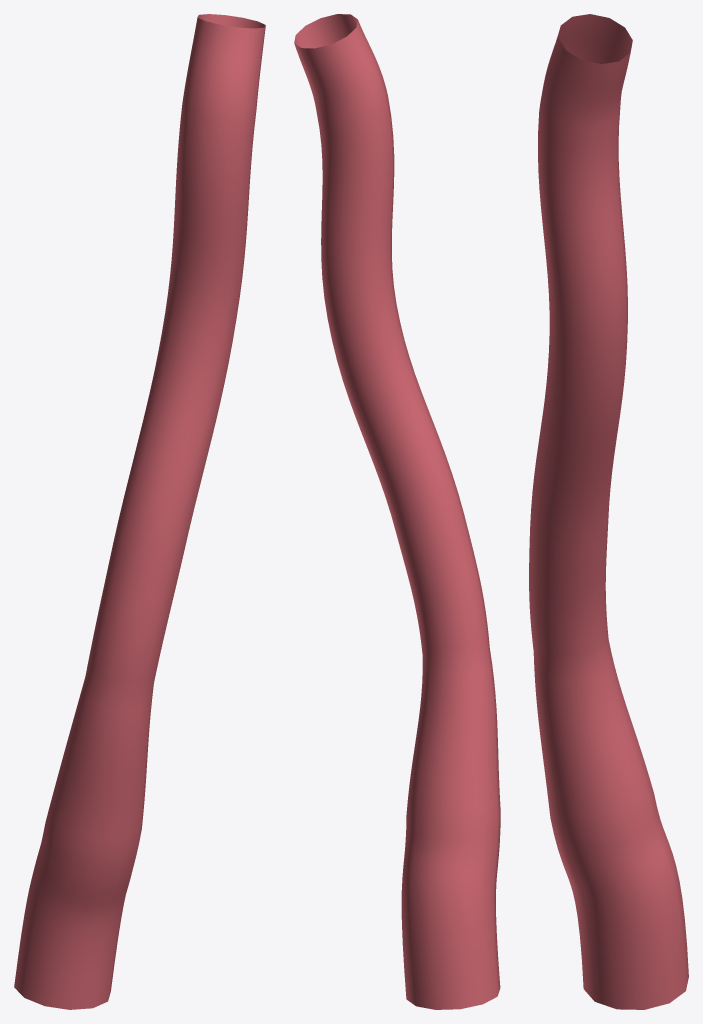
3 views of the same model, side by side, from view 1: azimuth 30°, elevation 25°; view 2: azimuth 150°, elevation 25°; view 3: azimuth 270°, elevation 25° (orthographic). The views are drawn at different scales.
Visible parts, largest first — view 1: ZA_06675a5f04d11096; view 2: ZA_06675a5f04d11096; view 3: ZA_06675a5f04d11096.
Part boxes in pixels (box(x1,y1,x2,y2)): ZA_06675a5f04d11096: box(14, 14, 265, 1009); ZA_06675a5f04d11096: box(294, 14, 500, 1009); ZA_06675a5f04d11096: box(529, 14, 688, 1009).
Size of the model in its own units: 0.0181 by 0.0753 by 0.0105.
